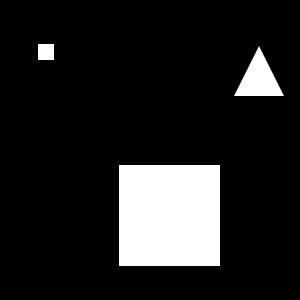circle: (119, 165, 220, 266), (38, 44, 54, 60)
triangle: (234, 46, 284, 96)
